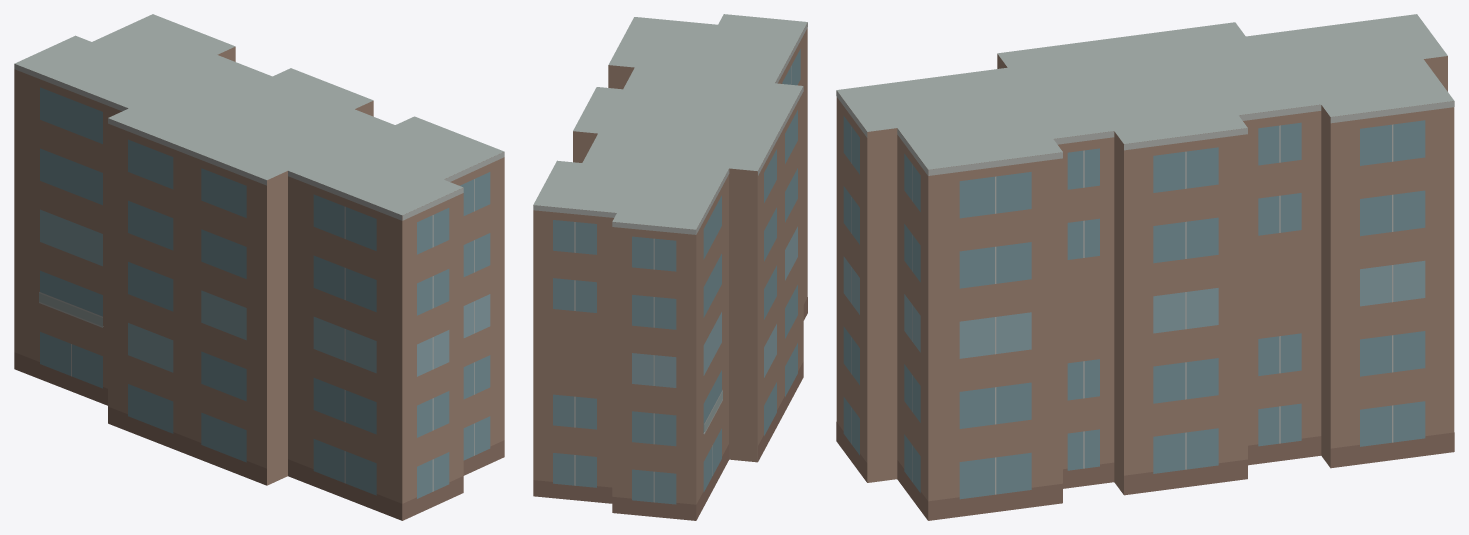
File: survey-upis-33006353.glb
3 views of the same model, side by side, from view 1: azimuth 30°, elevation 25°; view 2: azimuth 150°, elevation 25°; view 3: azimuth 270°, elevation 25° (orthographic). The views are drawn at different scales.
Parts seen in each view (by area): view 1: survey-upis-33006353.tmp; view 2: survey-upis-33006353.tmp; view 3: survey-upis-33006353.tmp.
Part boxes in pixels (left/top/right/bottom): survey-upis-33006353.tmp: left=14, top=14, right=504, bottom=520; survey-upis-33006353.tmp: left=533, top=14, right=807, bottom=520; survey-upis-33006353.tmp: left=836, top=14, right=1454, bottom=520.
Bounding box in the file's own units: 12.99 × 13.65 × 21.78.
